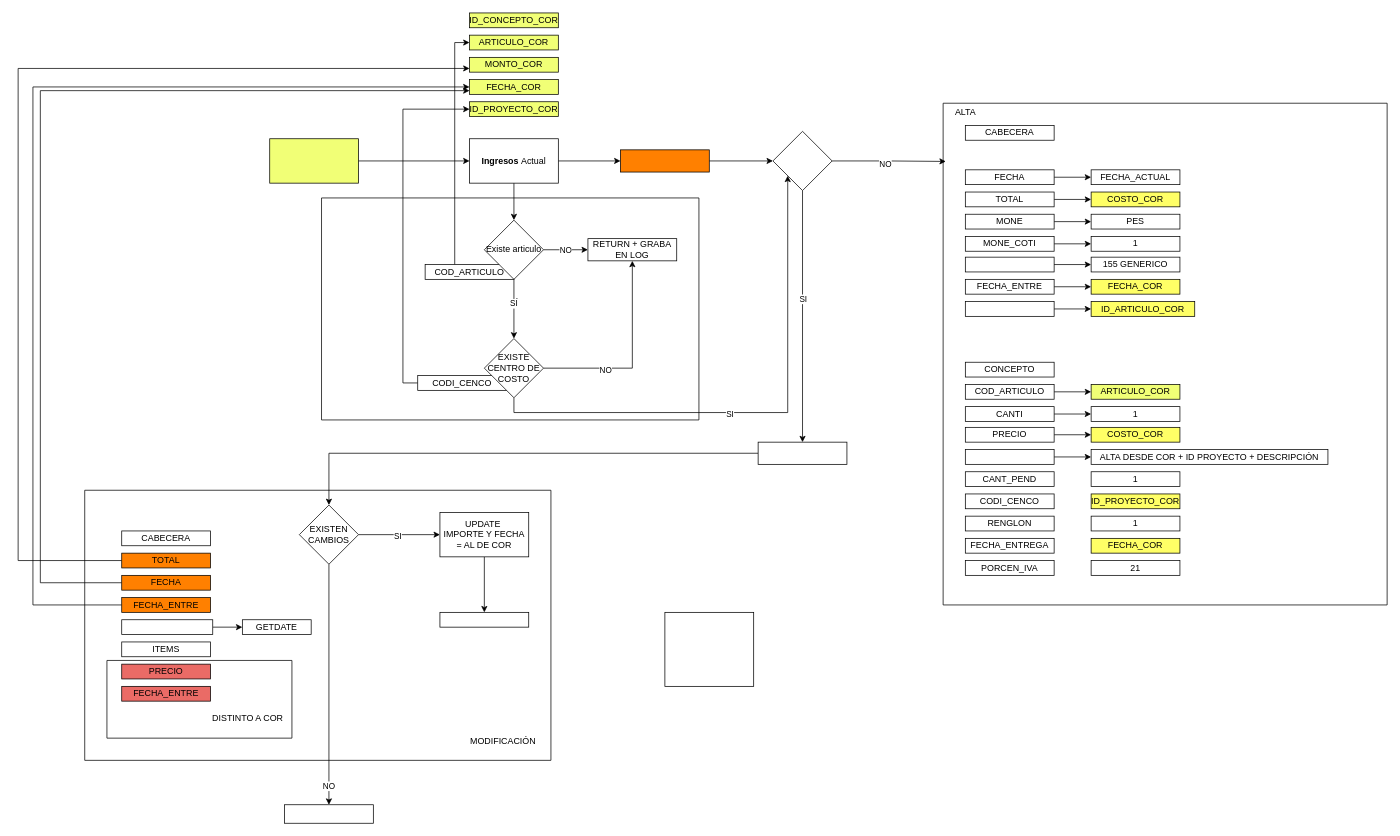
The diagram is 1400 pixels wide and 836 high, and some of its shapes have lost their labels. Each missing label, with the centre of its shape:
CLIENTE: (x=1009, y=264)
COR: (x=314, y=160)
EXISTE PEDIDO: (x=802, y=161)
FECHA_MODI: (x=167, y=627)
GRABA EN LOG: (x=484, y=619)
NADA: (x=328, y=813)
NOTA IDENTIFICACIÓN ÚNICA POR ID PROYECTO ID ARTICULO COR ID_ARTICULO_RP: (x=709, y=649)
OBSER_1: (x=1009, y=456)
OC_NUME: (x=1009, y=308)
PEDIDO: (x=664, y=160)
UPDATE: (x=802, y=452)
VALIDACIONES: (x=510, y=308)
